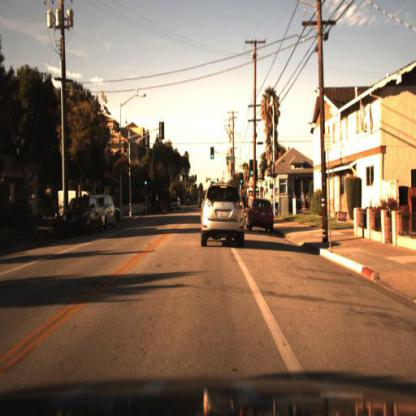car: (195, 177, 248, 252), (55, 190, 101, 240), (61, 191, 101, 238), (244, 189, 282, 235), (58, 183, 86, 207), (103, 195, 118, 233), (169, 194, 183, 217)
trafficLight-Green: (249, 158, 258, 180), (209, 152, 217, 165), (210, 145, 216, 162), (239, 176, 247, 187), (144, 177, 149, 190), (144, 181, 149, 194), (240, 176, 245, 189), (249, 170, 255, 179)
